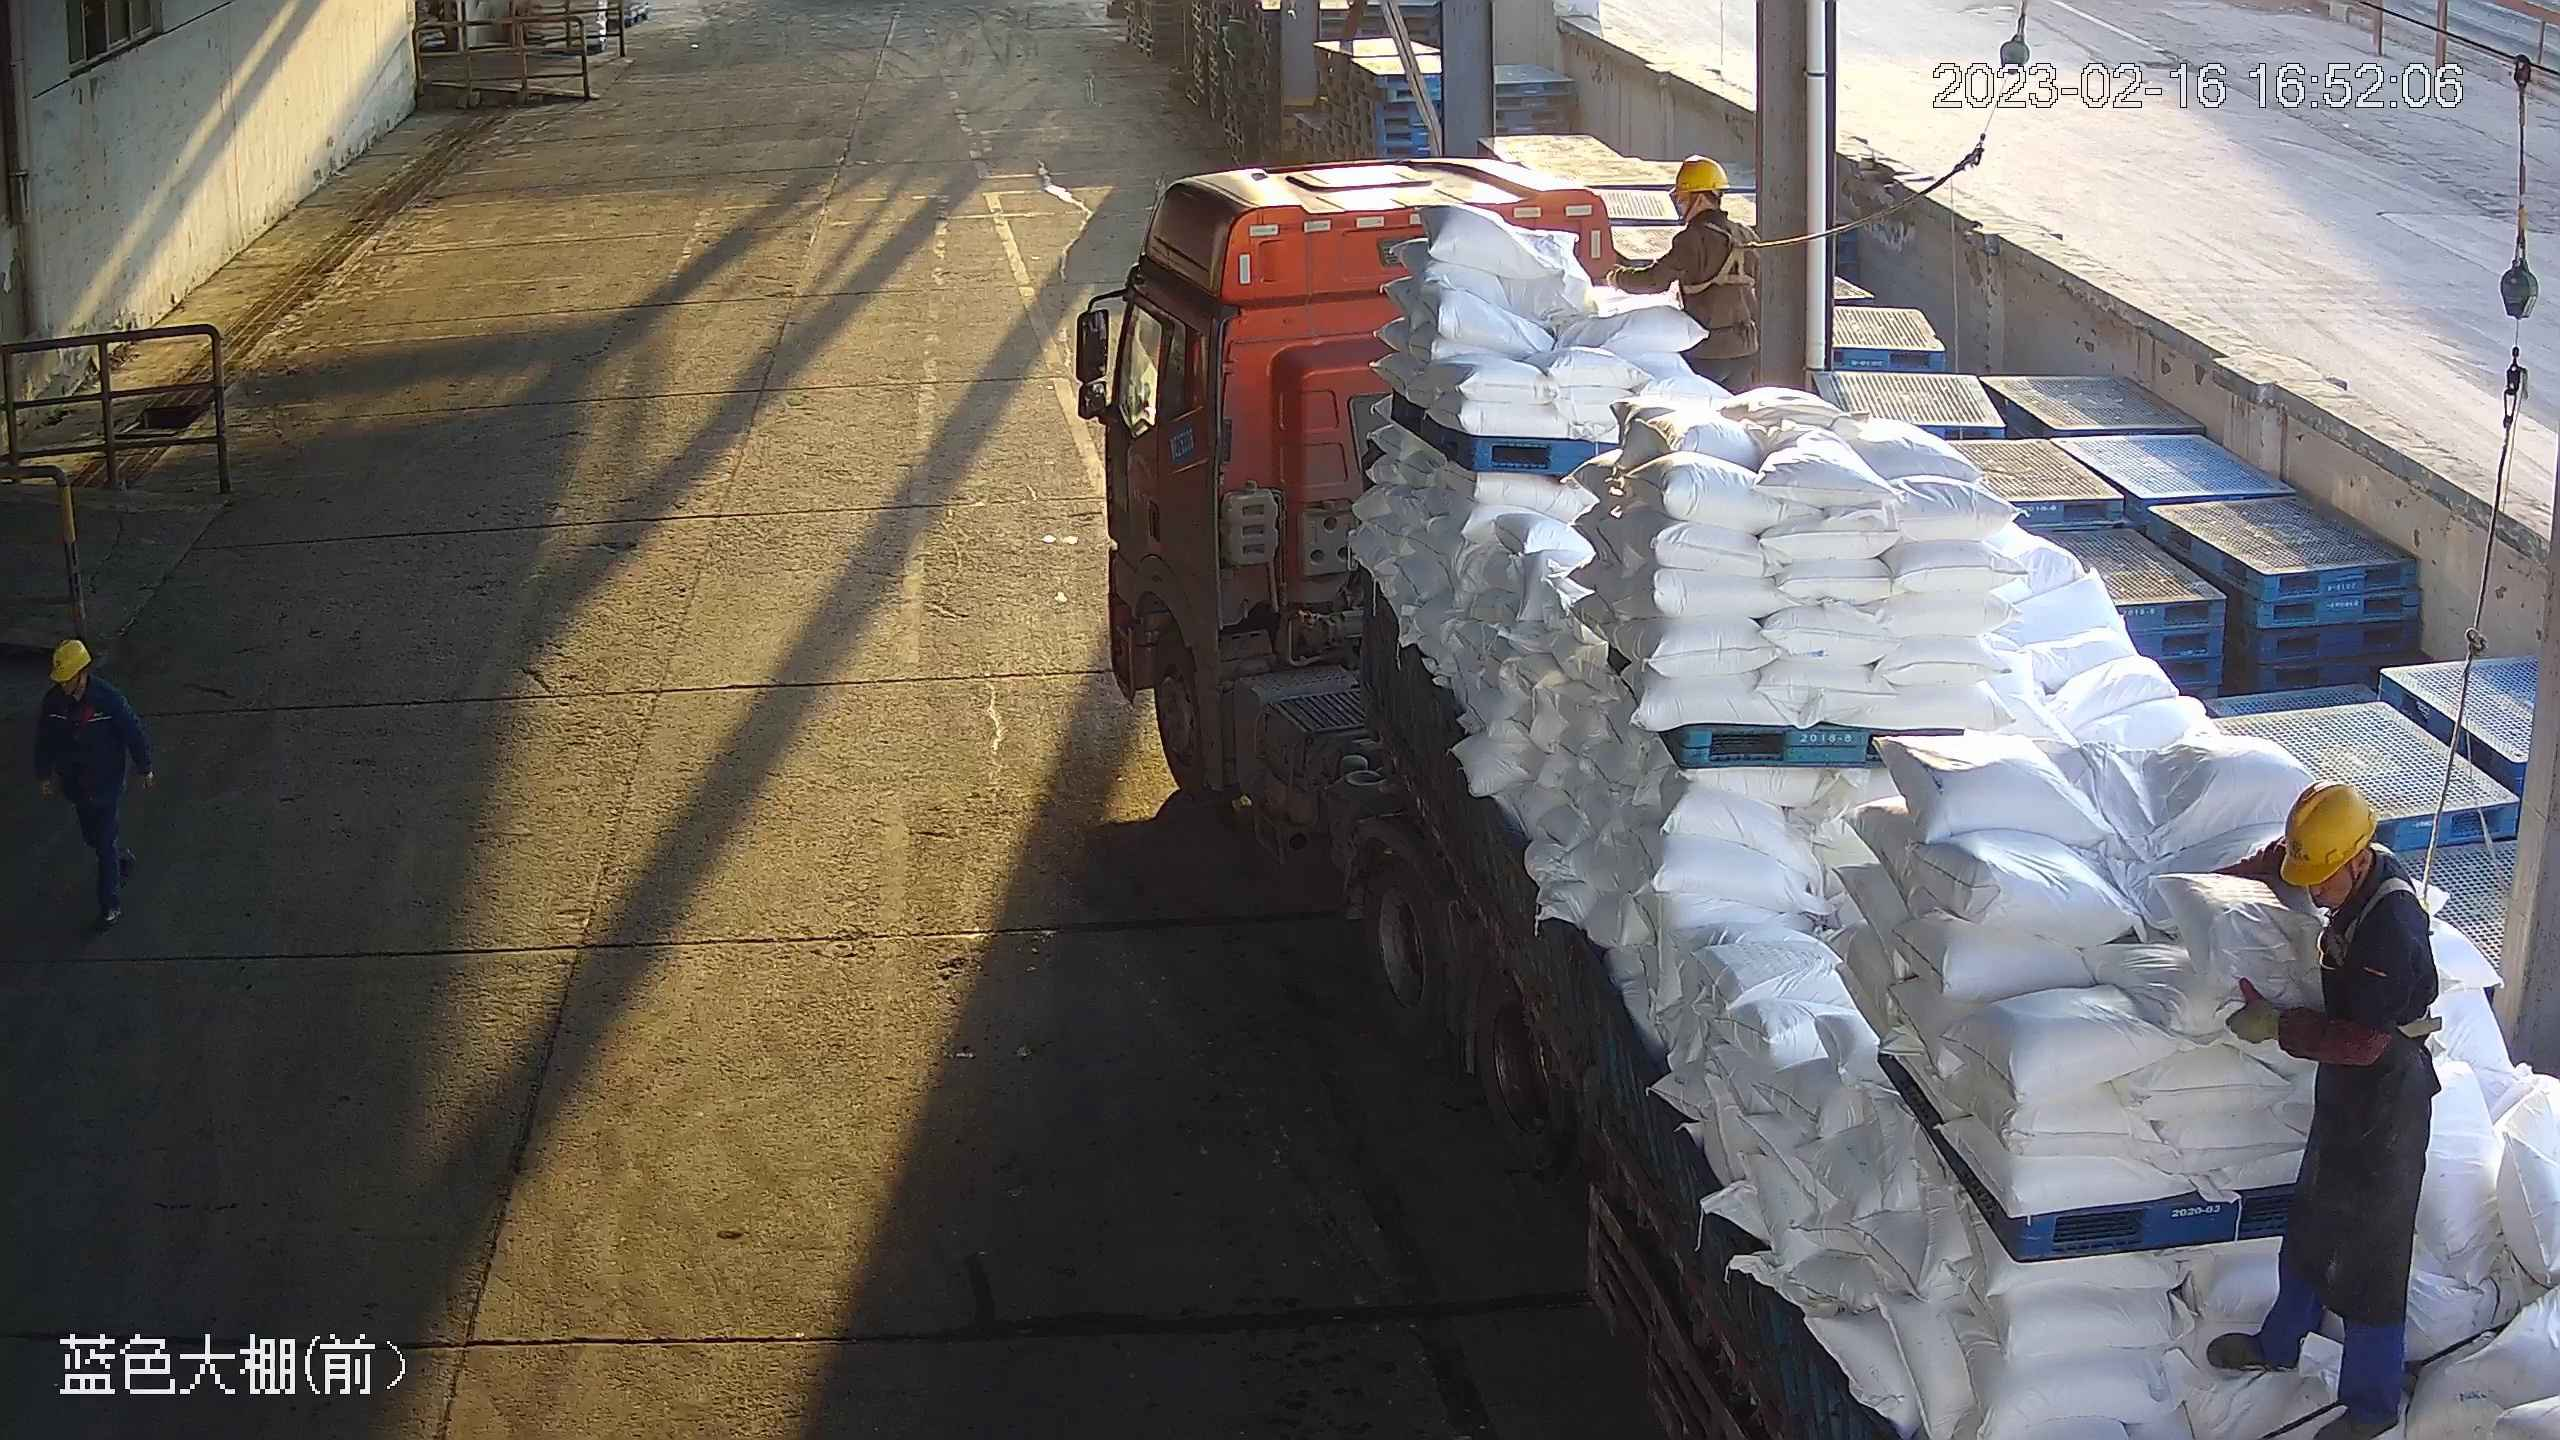belt: (2335, 860, 2451, 1044), (1670, 217, 1763, 299)
head: (2244, 792, 2440, 1010), (1657, 160, 1761, 268), (35, 644, 140, 734)
helmet: (2261, 784, 2390, 881), (1666, 145, 1729, 203), (42, 636, 103, 678)
people: (2199, 779, 2446, 1438), (29, 629, 159, 936)
truck: (1070, 157, 2560, 1440)
